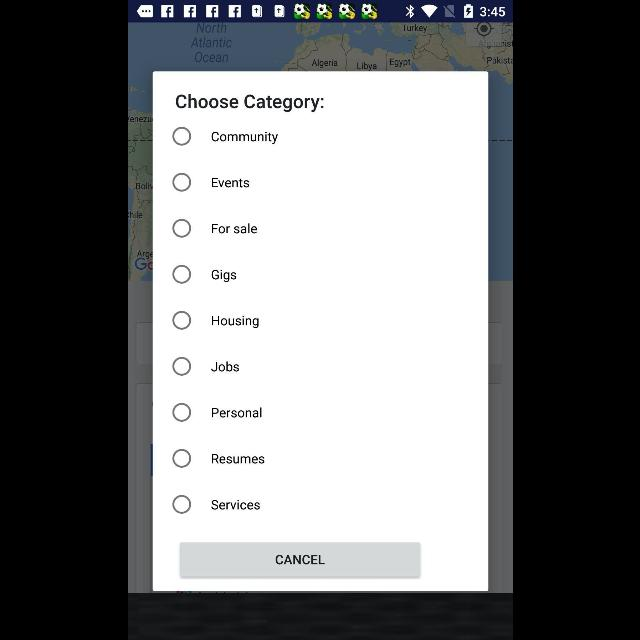checkbox: (172, 402, 190, 422), (172, 358, 190, 377), (172, 173, 190, 191), (172, 266, 190, 284), (172, 449, 190, 467), (172, 495, 190, 513), (172, 310, 188, 330), (172, 127, 188, 145), (172, 219, 188, 237)
panel: (152, 72, 488, 590)
text: (175, 94, 323, 112), (211, 132, 277, 144), (212, 316, 258, 328), (210, 454, 264, 464), (211, 408, 261, 418), (211, 500, 259, 510), (212, 223, 256, 233), (212, 178, 248, 188), (211, 270, 235, 282), (210, 362, 238, 372)
textbutton: (179, 542, 419, 580)
uppertaskbar: (128, 1, 512, 23)
